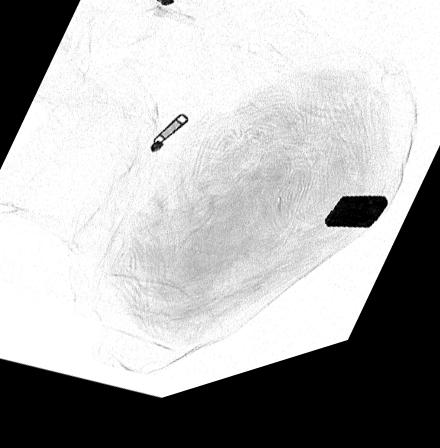Lighter: (322, 214, 390, 250)
